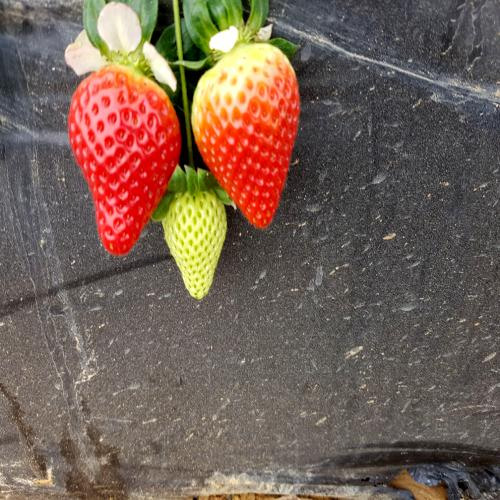partially-ripe: (190, 40, 317, 235)
ripe: (63, 69, 181, 260)
